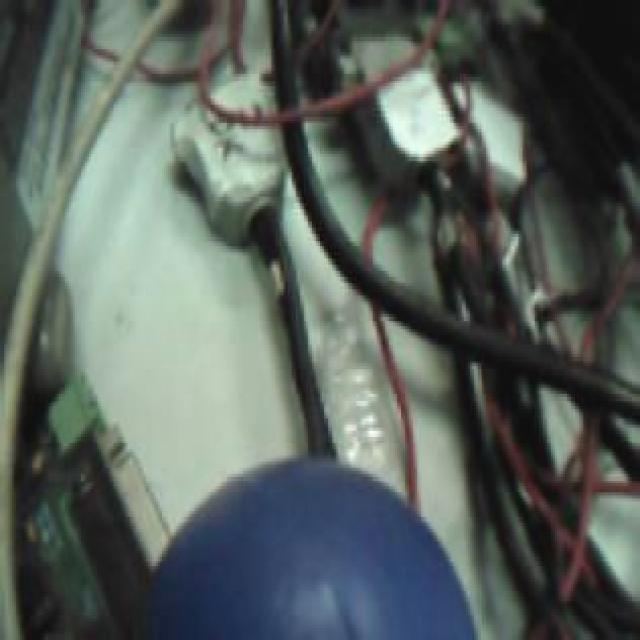BallPurple: (143, 460, 479, 640)
